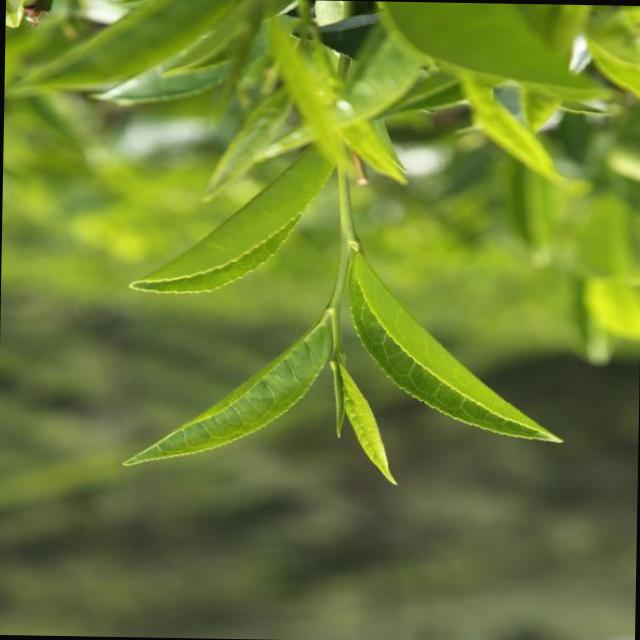Stem: (328, 302, 339, 316)
